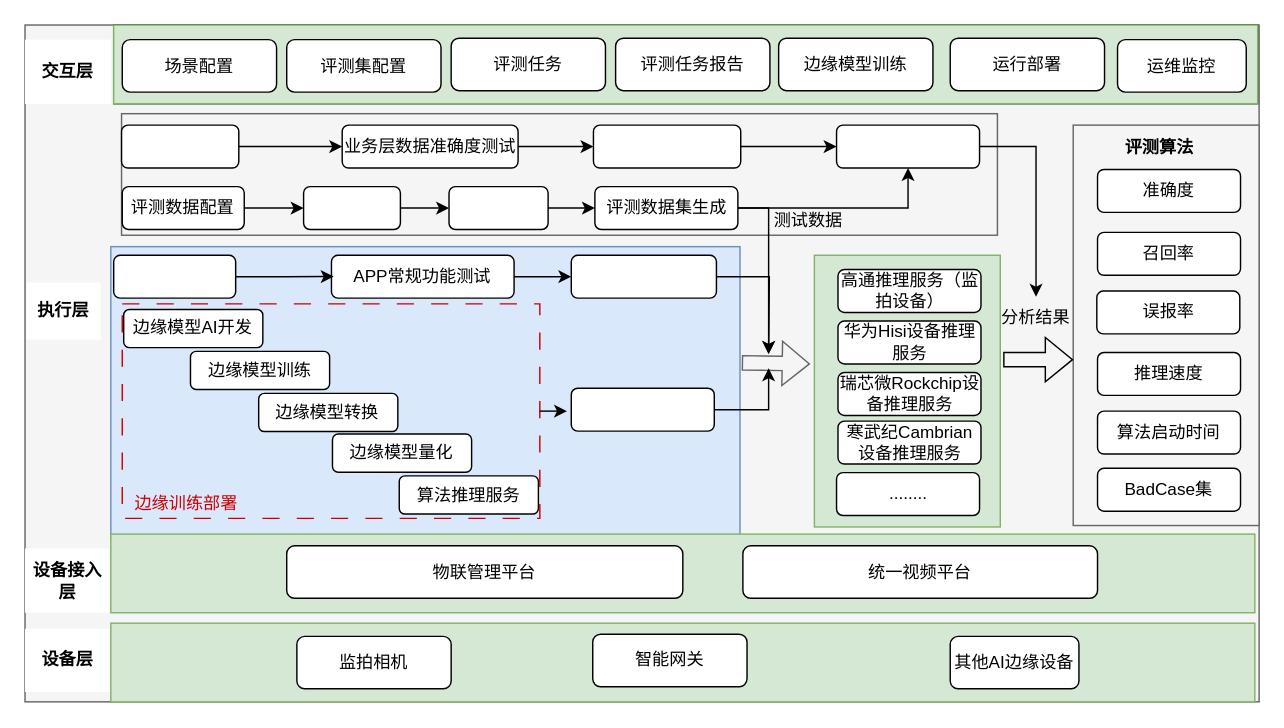
The diagram is 1284 pixels wide and 728 high, and some of its shapes have lost their labels. Each missing label, with the box of its shape:
业务功能测试: (120, 124, 239, 168)
业务负荷测试: (592, 124, 741, 168)
加载被测对象算法镜像: (570, 254, 716, 298)
实体设备: (835, 124, 980, 168)
数据源: (302, 185, 400, 230)
构建边缘AI算法镜像: (570, 387, 714, 431)
格式转化: (448, 185, 548, 230)
系统功能测试: (112, 254, 236, 298)
